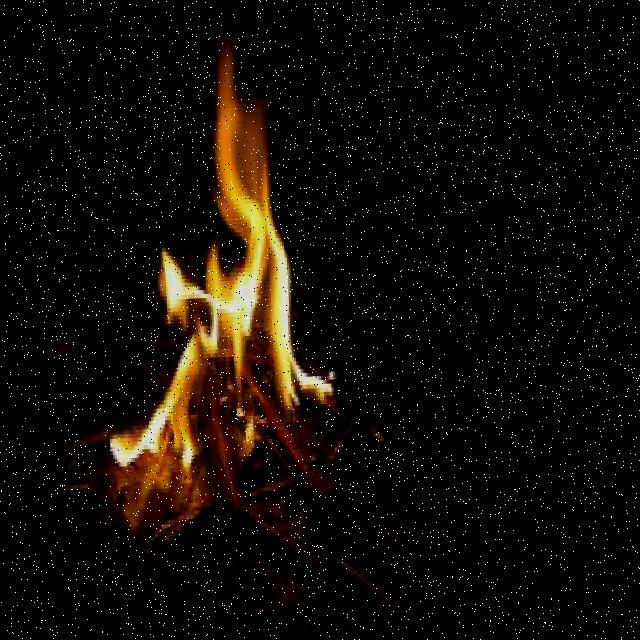Fire: (93, 16, 342, 475)
